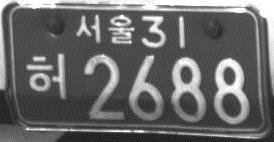1: (175, 14, 188, 49)
2: (82, 54, 126, 122)
3: (140, 14, 167, 49)
6: (126, 54, 164, 122)
8: (213, 56, 251, 125), (169, 56, 207, 123)
서울_O: (74, 13, 134, 45)
허: (25, 51, 69, 102)
